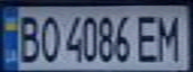0: (81, 12, 100, 63)
4: (63, 11, 84, 63)
6: (112, 11, 136, 63)
8: (97, 12, 118, 63)
B: (12, 11, 42, 64)
E: (133, 11, 163, 63)
M: (154, 10, 184, 63)
O: (36, 11, 60, 63)
